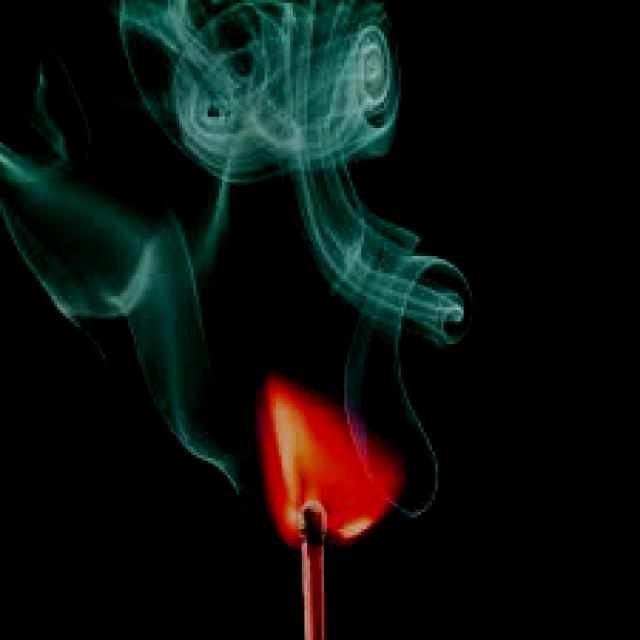fire: (225, 356, 430, 543)
